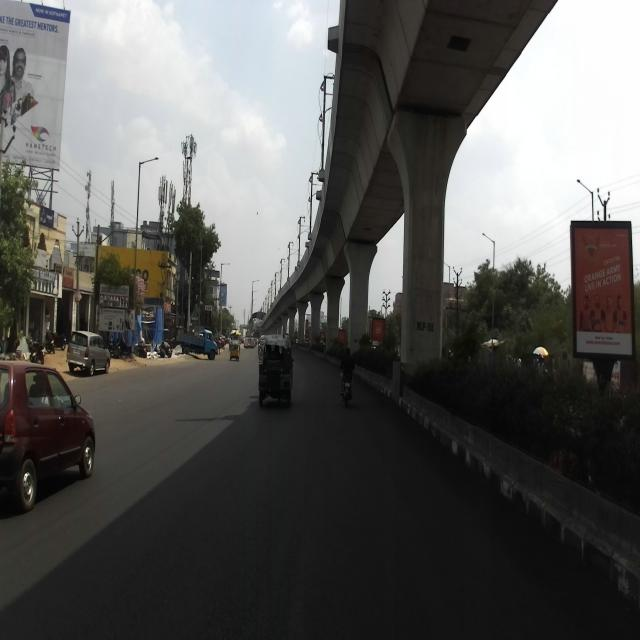Car_Maruti-Suzuki: (0, 358, 96, 512)
Car_Toyota: (67, 330, 111, 374)
